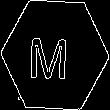M_N: (34, 29, 76, 81)
